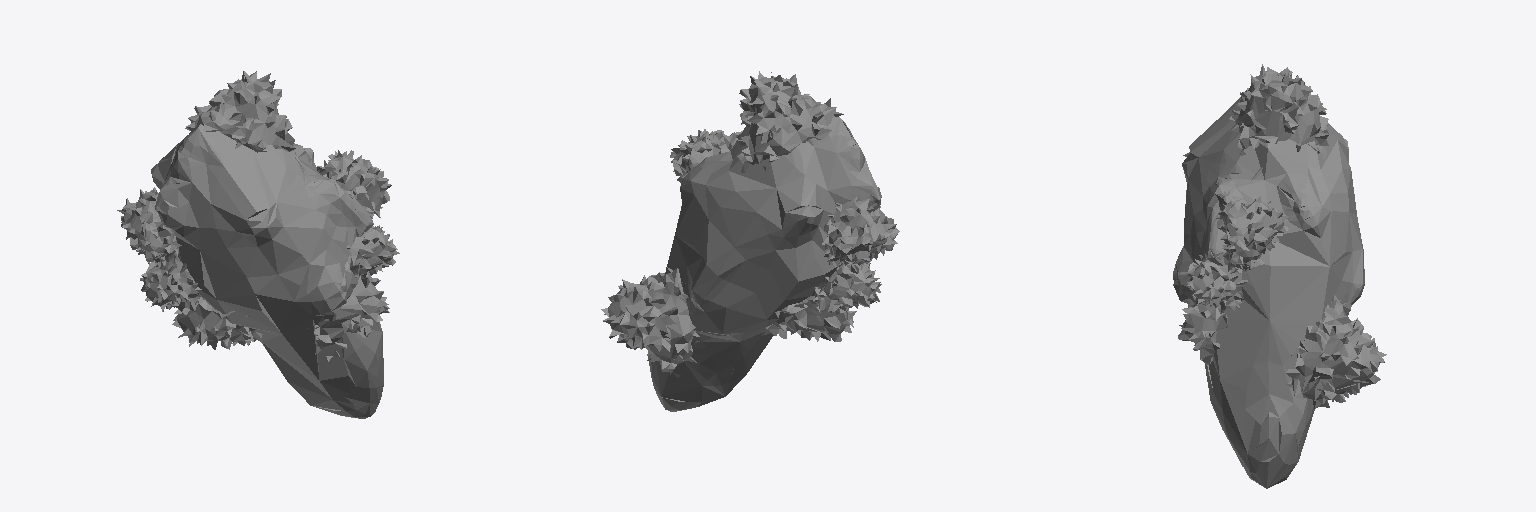
Rendered from plechi_crystal_metinstone1.obj.
The picture shows the model from 3 angles: view 1: azimuth 30°, elevation 25°; view 2: azimuth 150°, elevation 25°; view 3: azimuth 270°, elevation 25°; orthographic projection.
Parts seen in each view (by area): view 1: Object011, Object015, Object016, Object014; view 2: Object011, Object015, Object013, Object014, Object016; view 3: Object011, Object016, Object013, Object014.
Part boxes in pixels (x1,y1,x2,y2): Object011: (151,124,383,418); Object015: (117,187,262,349); Object016: (307,150,399,361); Object014: (185,71,295,158); Object011: (648,116,881,411); Object015: (766,196,899,341); Object013: (601,267,700,377); Object014: (737,71,843,172); Object016: (670,129,742,186); Object011: (1173,97,1364,488); Object016: (1178,190,1288,364); Object013: (1286,295,1386,408); Object014: (1229,64,1328,159).
Bounding box in the file's own units: 198 × 268 × 145.